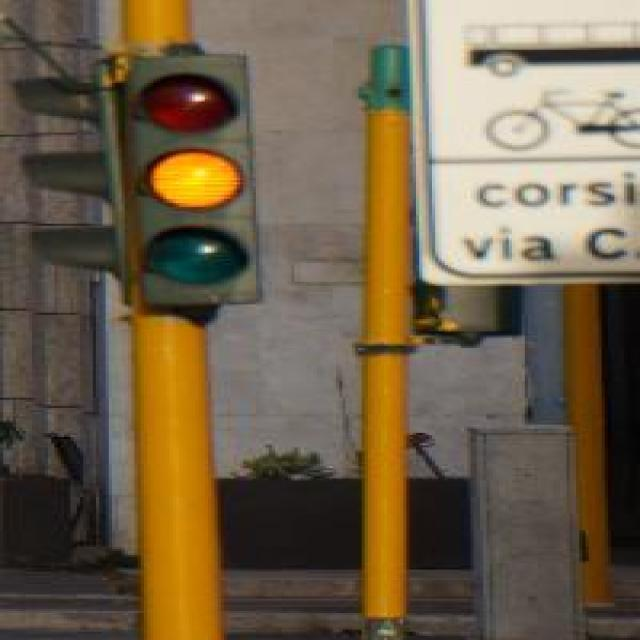yellow_light: (107, 44, 262, 319)
